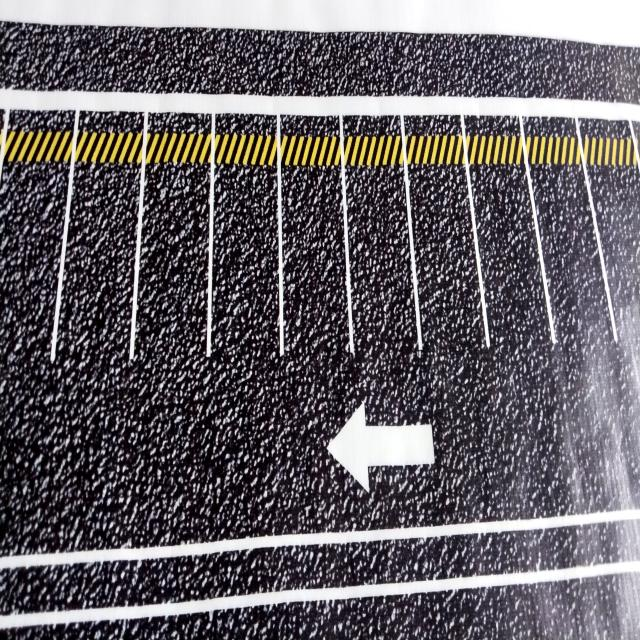slots: (56, 161, 140, 380), (134, 164, 210, 387), (0, 160, 69, 386), (346, 165, 418, 379), (470, 160, 551, 346), (531, 166, 613, 341), (409, 164, 485, 349), (211, 166, 279, 359), (282, 168, 349, 359), (589, 166, 640, 361)
